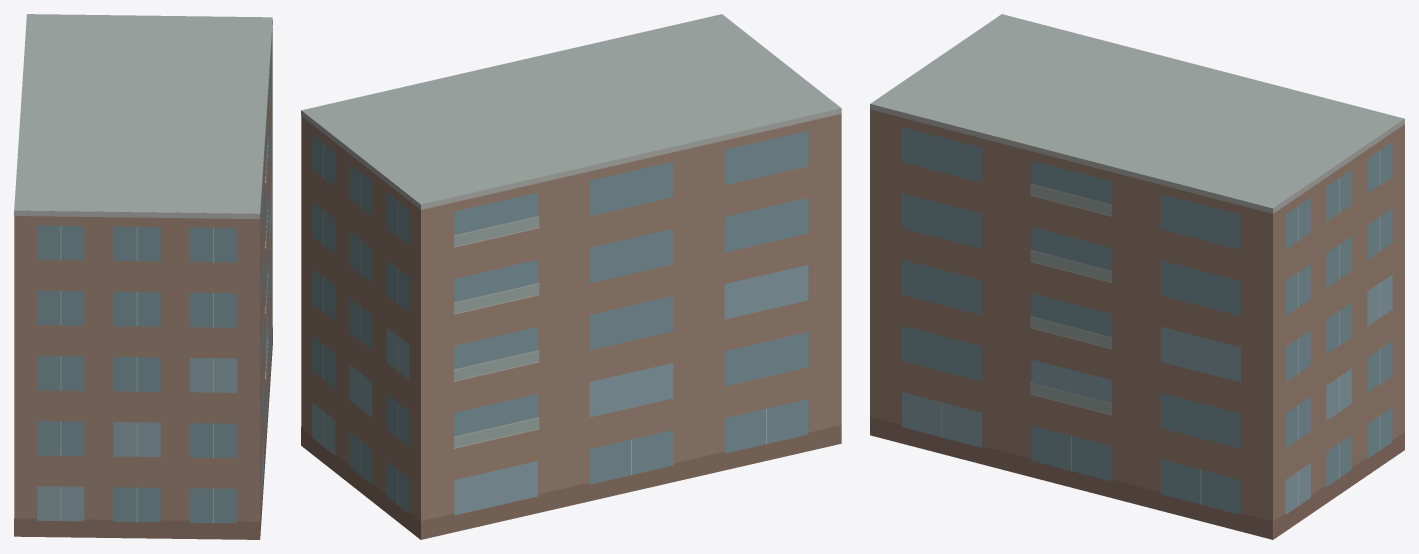
Rendered from survey-upis-32675865.glb.
The picture shows the model from 3 angles, left to right: view 1: azimuth 30°, elevation 25°; view 2: azimuth 150°, elevation 25°; view 3: azimuth 270°, elevation 25°; orthographic projection. The views are drawn at different scales.
Parts seen in each view (by area): view 1: survey-upis-32675865.tmp; view 2: survey-upis-32675865.tmp; view 3: survey-upis-32675865.tmp.
Boxes of the visible parts, x1,y1,x2,y2 form: survey-upis-32675865.tmp: (14,14,272,539); survey-upis-32675865.tmp: (301,14,841,539); survey-upis-32675865.tmp: (870,14,1404,539).
Size of the model in its own units: 18.7 by 14.85 by 21.72.
